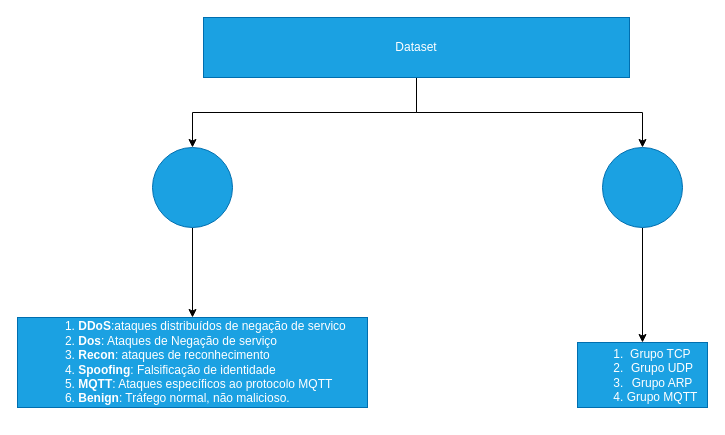
The diagram is 725 pixels wide and 435 high, and some of its shapes have lost their labels. The shapes that lost their labels are listed below. From the top down, each one's box as (x1, y1, x2, y2) in pixels, then its label:
(152, 146, 232, 228): Categoria geral do ataque
(602, 146, 682, 228): Agrupar por protocolo
